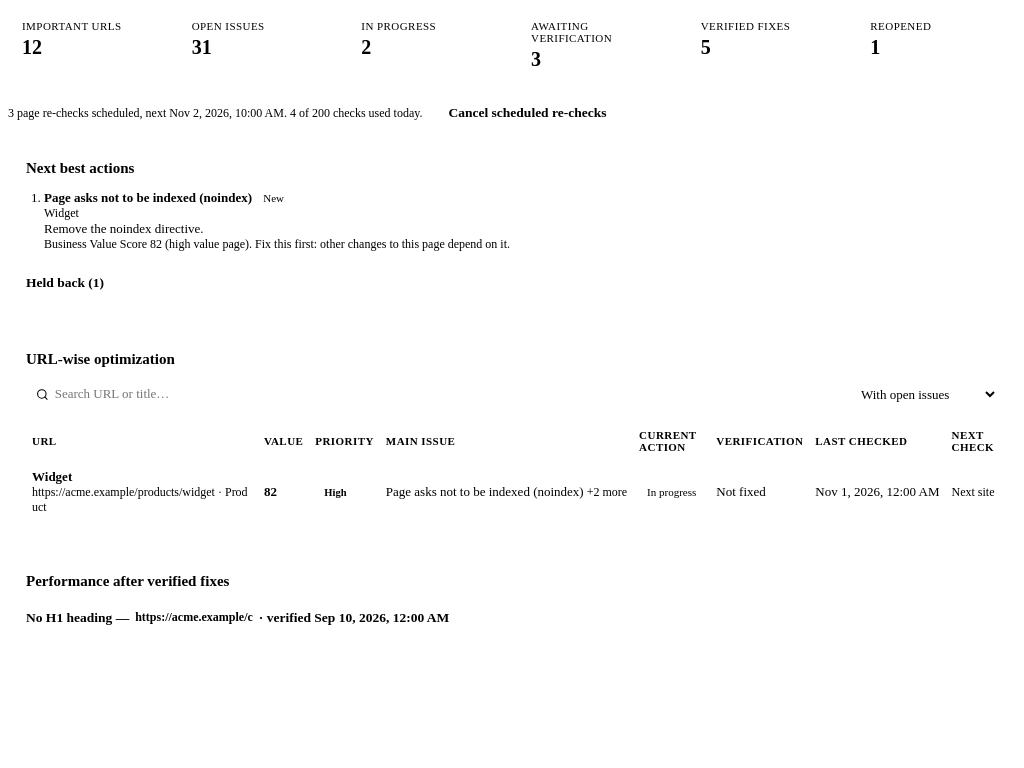
Test case: content › opening a URL shows the page drawer
The image size is (1024, 768).
Click the button "Widget" at x=52, y=477, box [32, 469, 72, 485]
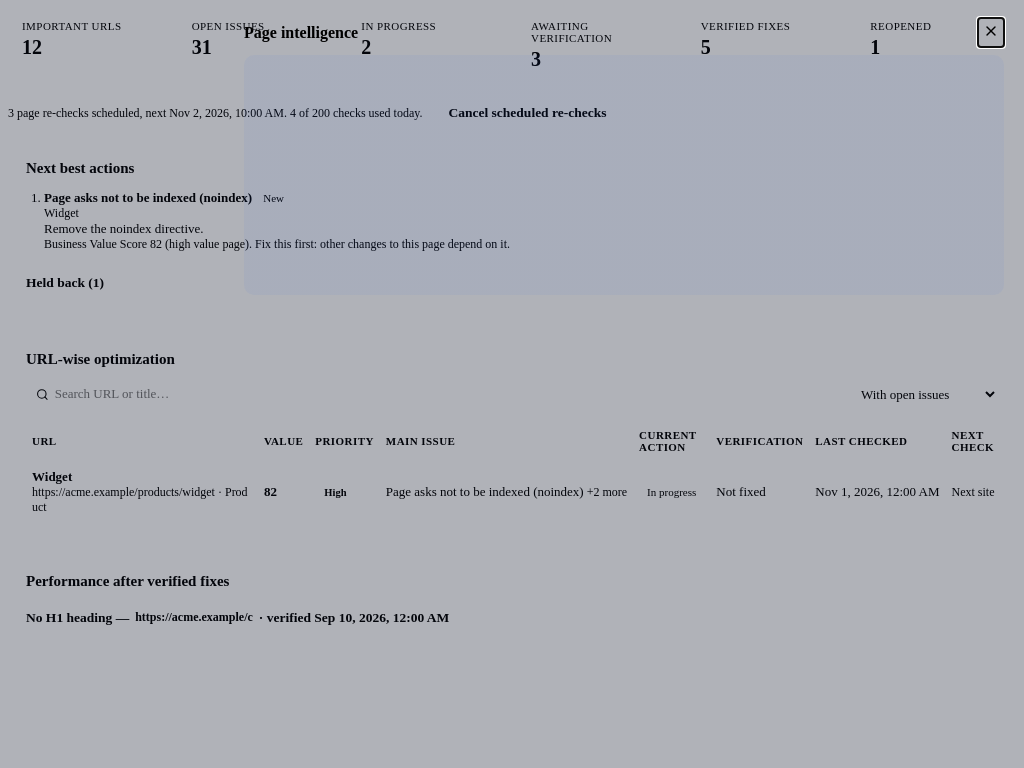
Now the dialog "Page intelligence" is shown, box [244, 18, 1004, 295]
